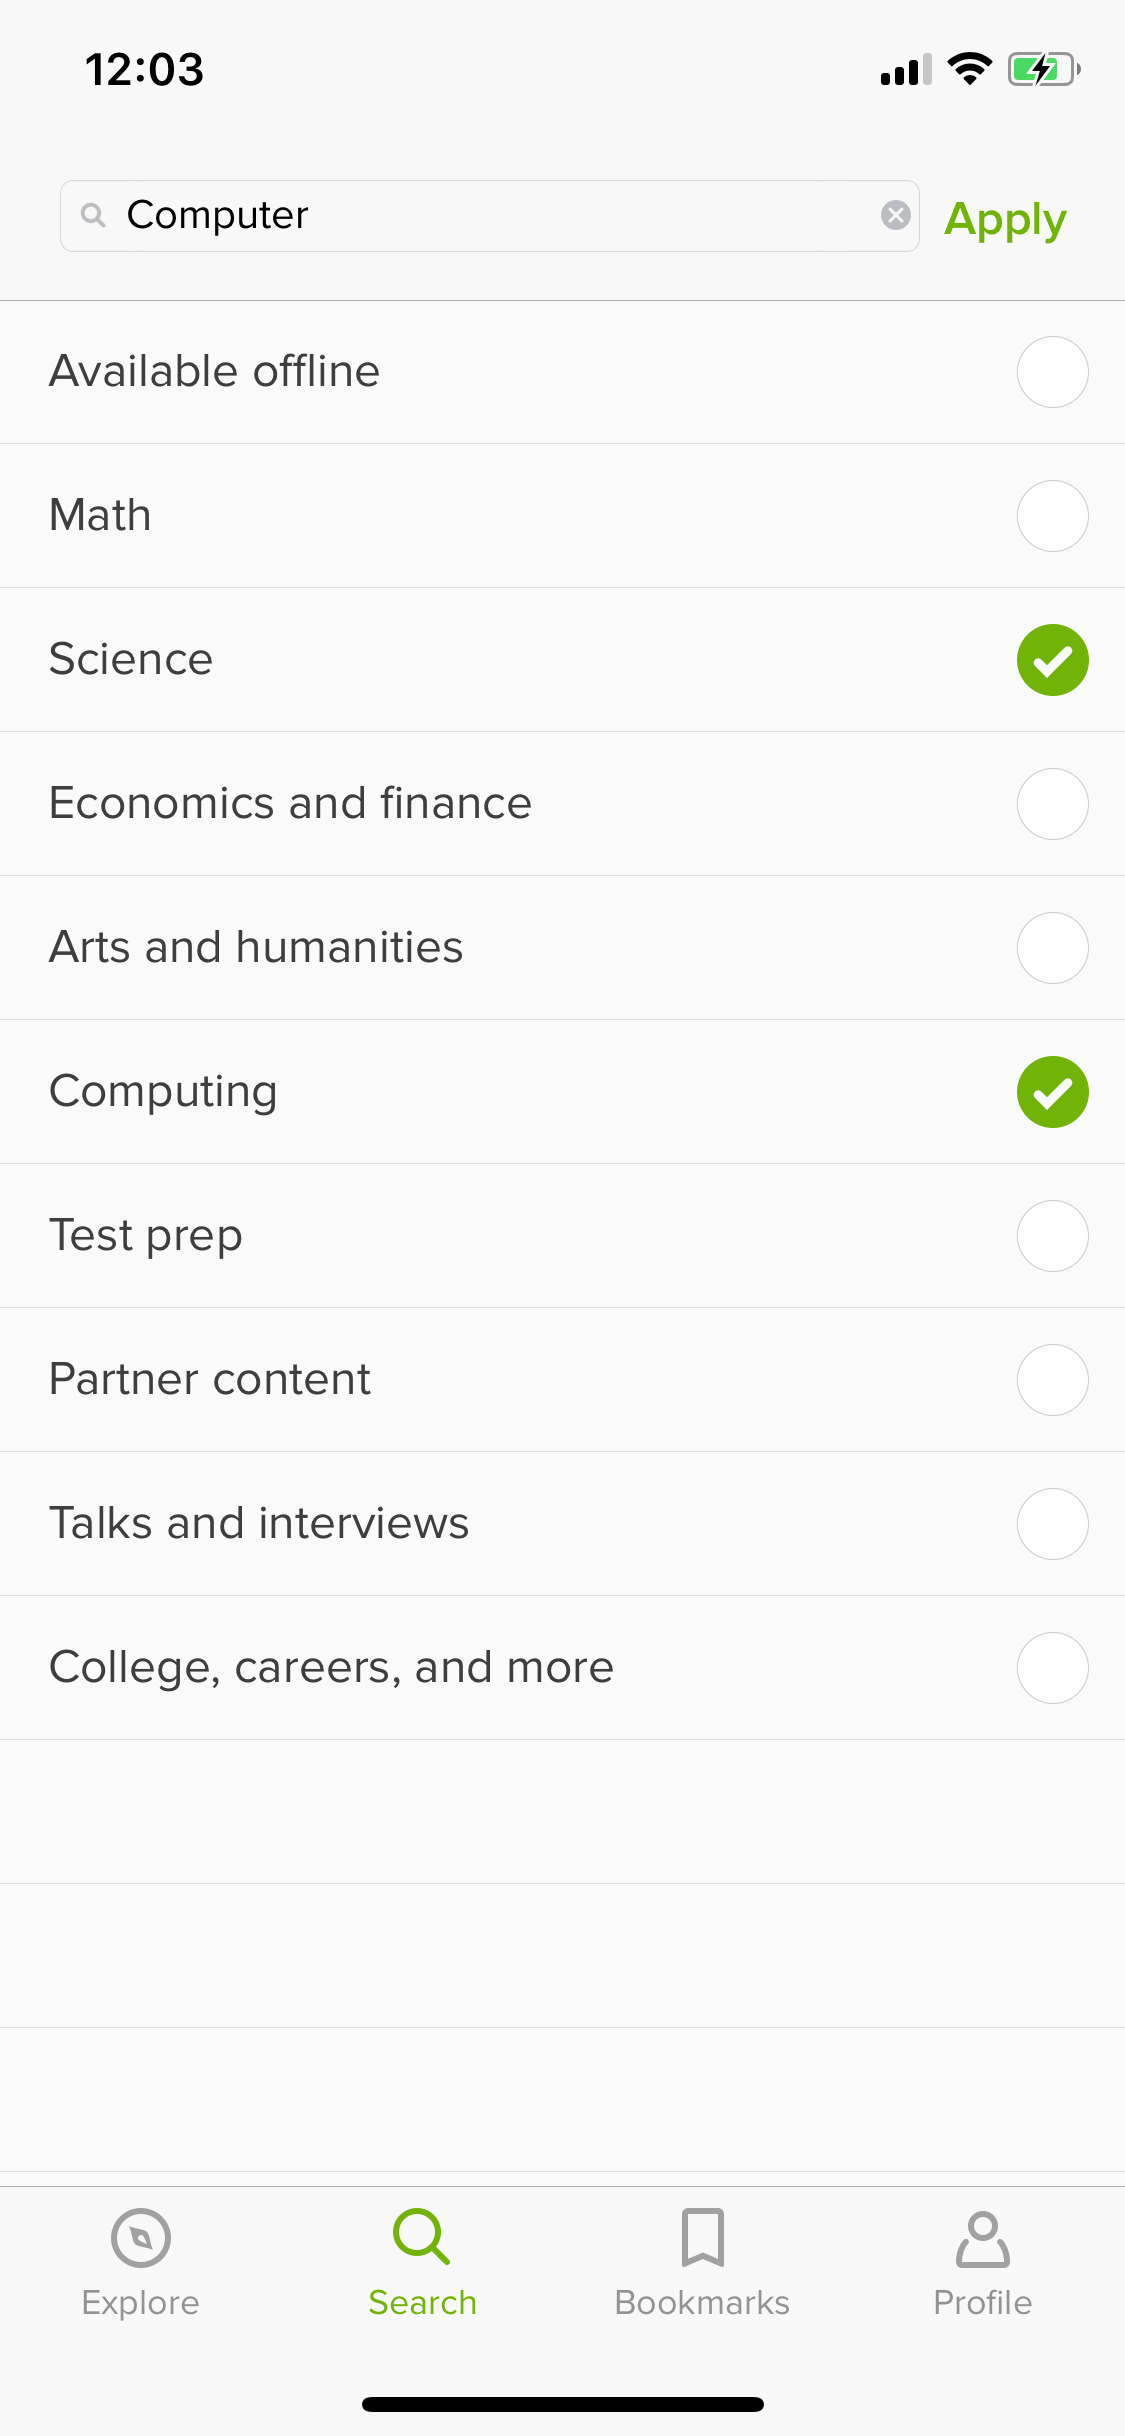Buttons: (929, 169, 1081, 259)
Checkboxes: (30, 437, 1099, 579), (34, 739, 1095, 873), (28, 1028, 1102, 1159), (34, 884, 1097, 1008), (44, 1608, 1099, 1732), (36, 604, 1097, 727), (37, 1321, 1092, 1439), (44, 1470, 1097, 1585), (33, 1182, 1095, 1296), (26, 322, 1102, 433)
